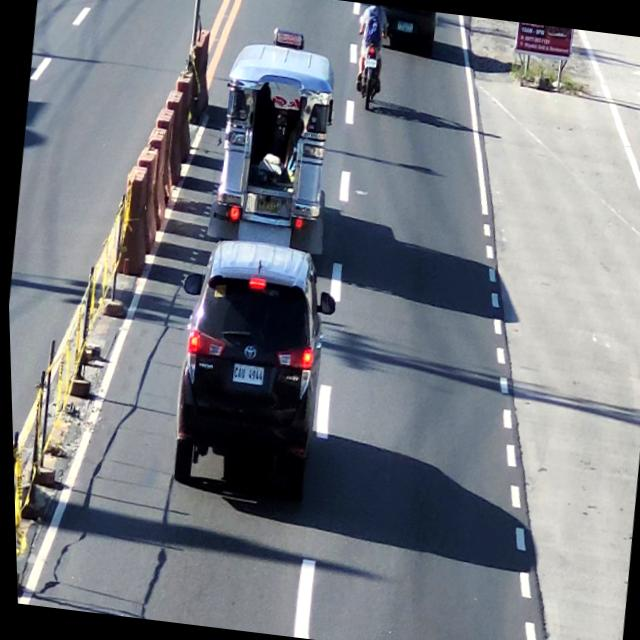Car: (153, 230, 340, 502), (381, 6, 442, 55)
Jeep: (202, 30, 348, 254)
License-Plate: (227, 360, 267, 395), (251, 190, 284, 218), (364, 54, 382, 70)
